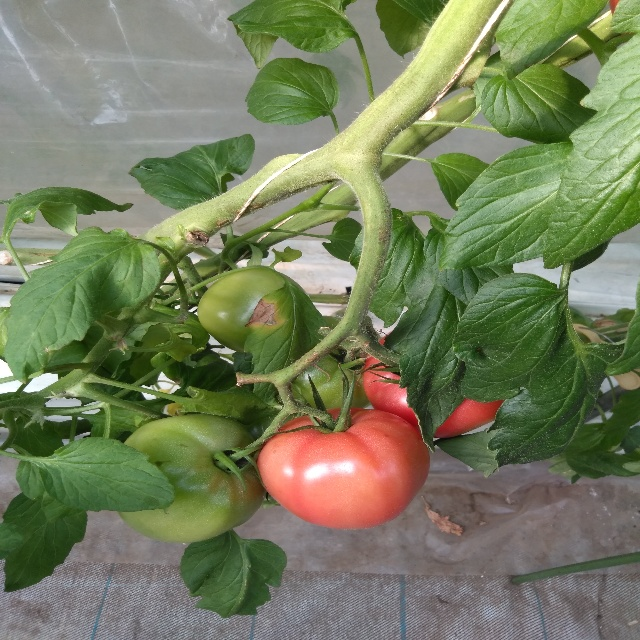b_fully_ripened: (255, 408, 430, 530), (363, 330, 505, 439)
b_green: (112, 414, 266, 543), (197, 266, 307, 353)
